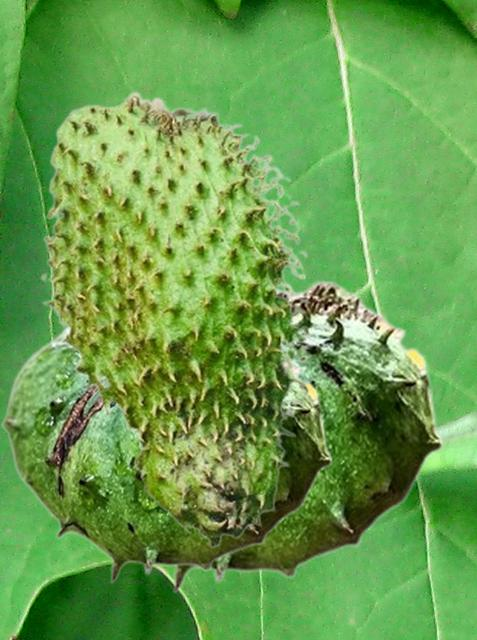guyabano: (39, 90, 314, 548), (169, 276, 443, 593), (1, 328, 332, 583)
